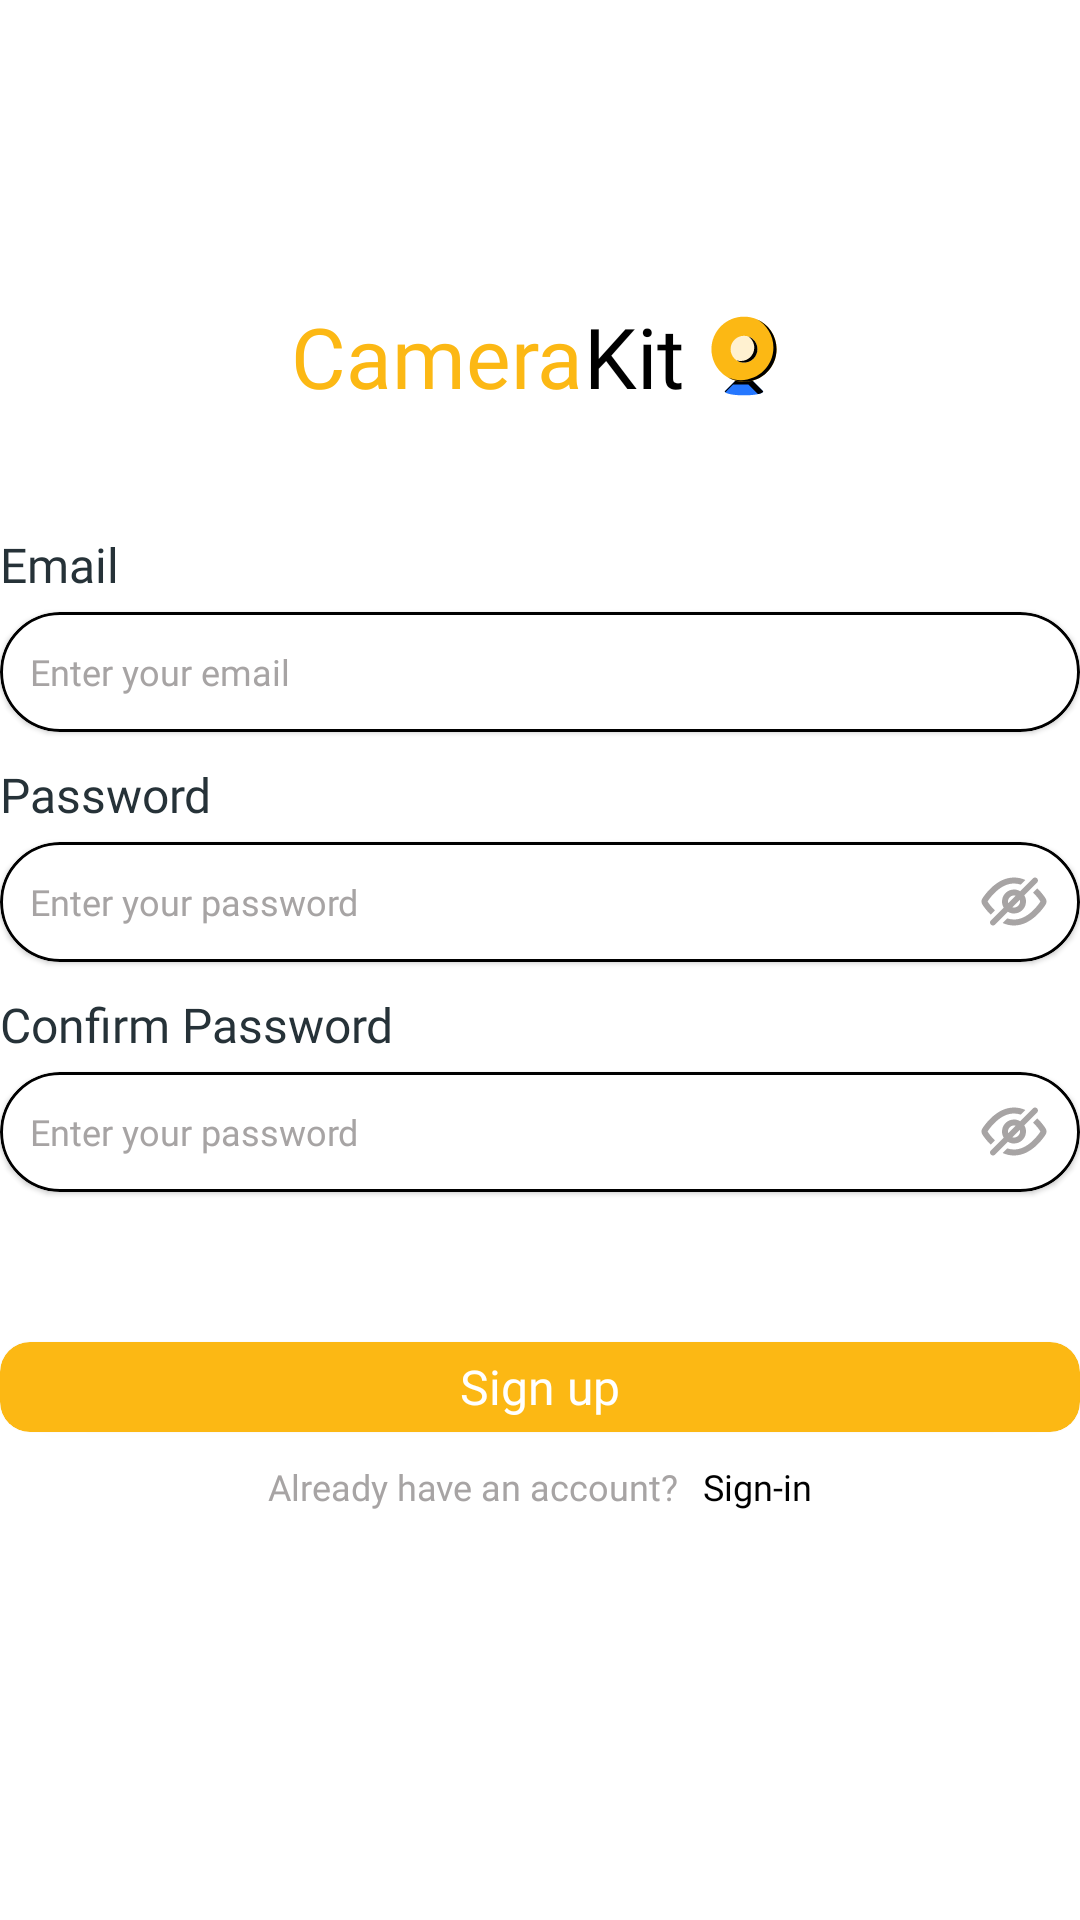

Icon click points for this 1080×1920 phone screenshot, format (x,y):
eye: (1014,901), (1014,1131)
